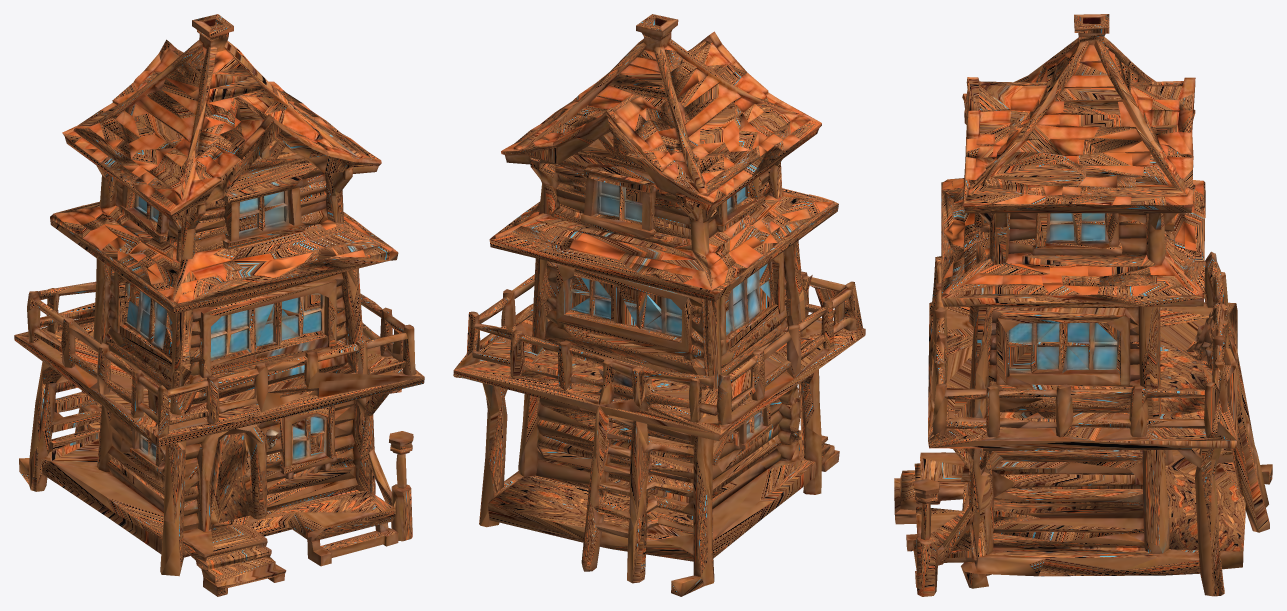
Rendered from tower.glb.
3 views of the same model, side by side, from view 1: azimuth 30°, elevation 25°; view 2: azimuth 150°, elevation 25°; view 3: azimuth 270°, elevation 25° (orthographic). The views are drawn at different scales.
Visible parts, largest first — view 1: output_unwrapped; view 2: output_unwrapped; view 3: output_unwrapped.
Boxes of the visible parts, left/top/right/bottom form: output_unwrapped: left=14, top=14, right=424, bottom=596; output_unwrapped: left=453, top=14, right=865, bottom=596; output_unwrapped: left=894, top=14, right=1272, bottom=596.
Size of the model in its own units: 1.1 by 1.9 by 1.27.
1 material, 1 textured.
